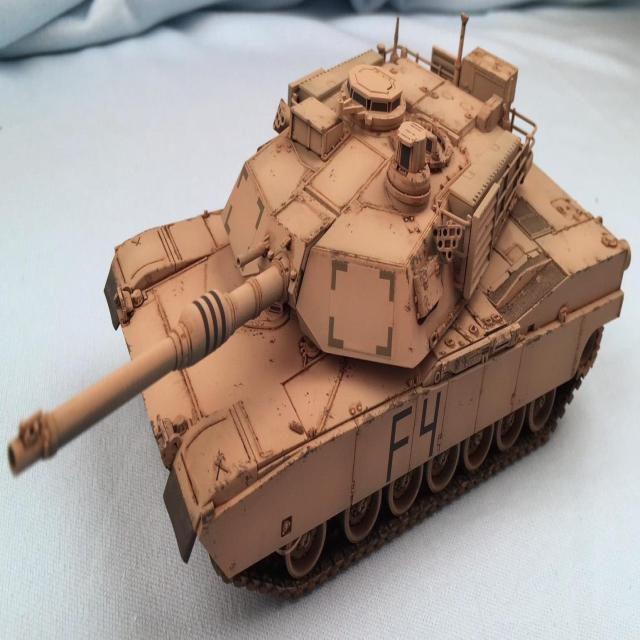Tanks: (10, 19, 576, 618)
